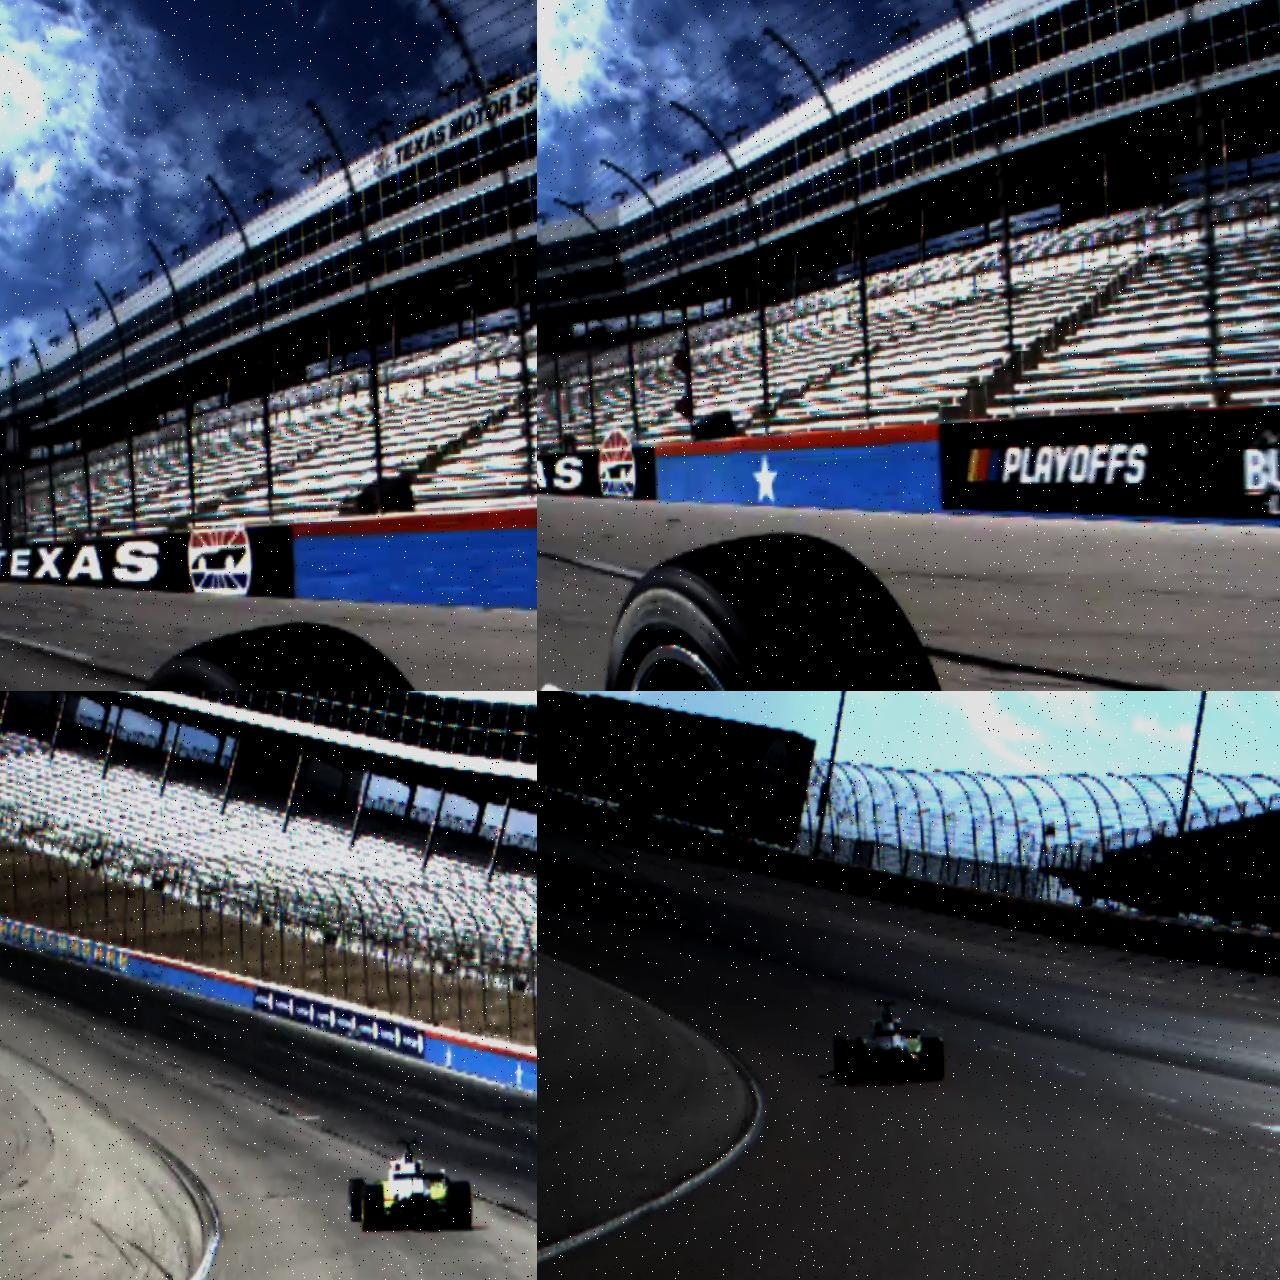AV: (345, 1136, 474, 1233), (831, 998, 945, 1085)
Wheel: (598, 525, 975, 692), (448, 1180, 472, 1230), (359, 1185, 384, 1232), (843, 1041, 867, 1084), (922, 1036, 945, 1083), (347, 1176, 366, 1223), (833, 1036, 847, 1077)
